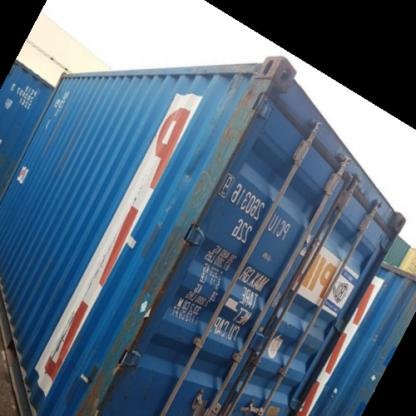Damage: (190, 101, 265, 210), (136, 211, 202, 322), (81, 319, 140, 413), (254, 40, 293, 102)
